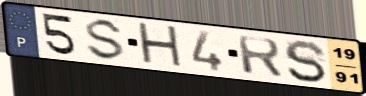4: (190, 28, 227, 73)
5: (39, 11, 78, 56)
H: (135, 21, 186, 71)
R: (235, 34, 285, 80)
S: (282, 38, 330, 85), (84, 17, 127, 62)
